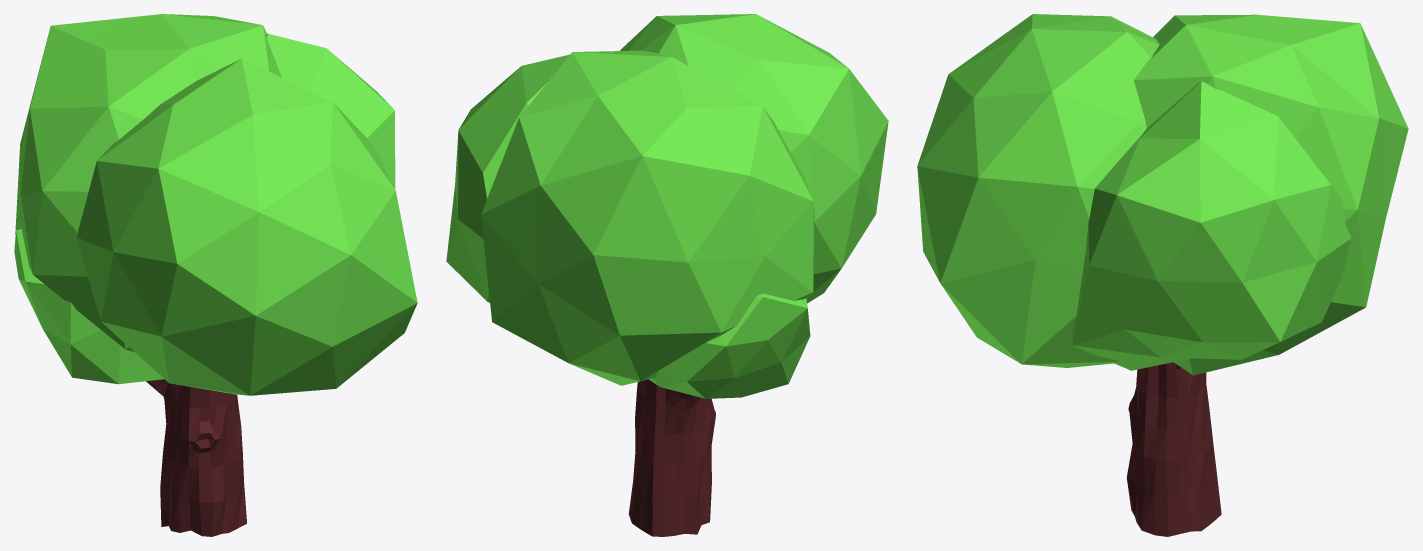
File: tree.glb
3 renders of one model, left to right at view 1: azimuth 30°, elevation 25°; view 2: azimuth 150°, elevation 25°; view 3: azimuth 270°, elevation 25°, orthographic. The views are drawn at different scales.
Visible parts, largest first — view 1: Icosphere, Cylinder; view 2: Icosphere, Cylinder; view 3: Icosphere, Cylinder.
Boxes of the visible parts, box(x1,y1,x2,y2) form: Icosphere: box(14, 14, 417, 395); Cylinder: box(146, 379, 246, 536); Icosphere: box(446, 14, 888, 398); Cylinder: box(628, 379, 715, 536); Icosphere: box(917, 14, 1408, 375); Cylinder: box(1126, 362, 1221, 536).
Size of the model in its own units: 16.5 by 21.82 by 19.57.
